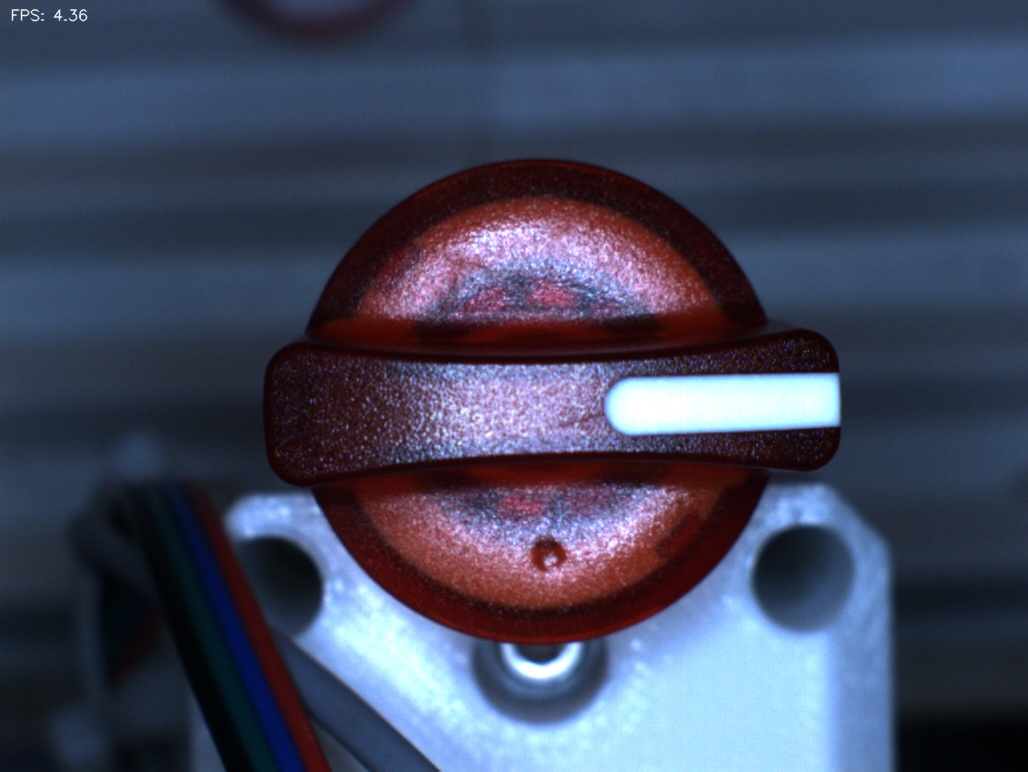Choc: (510, 512, 594, 596)
